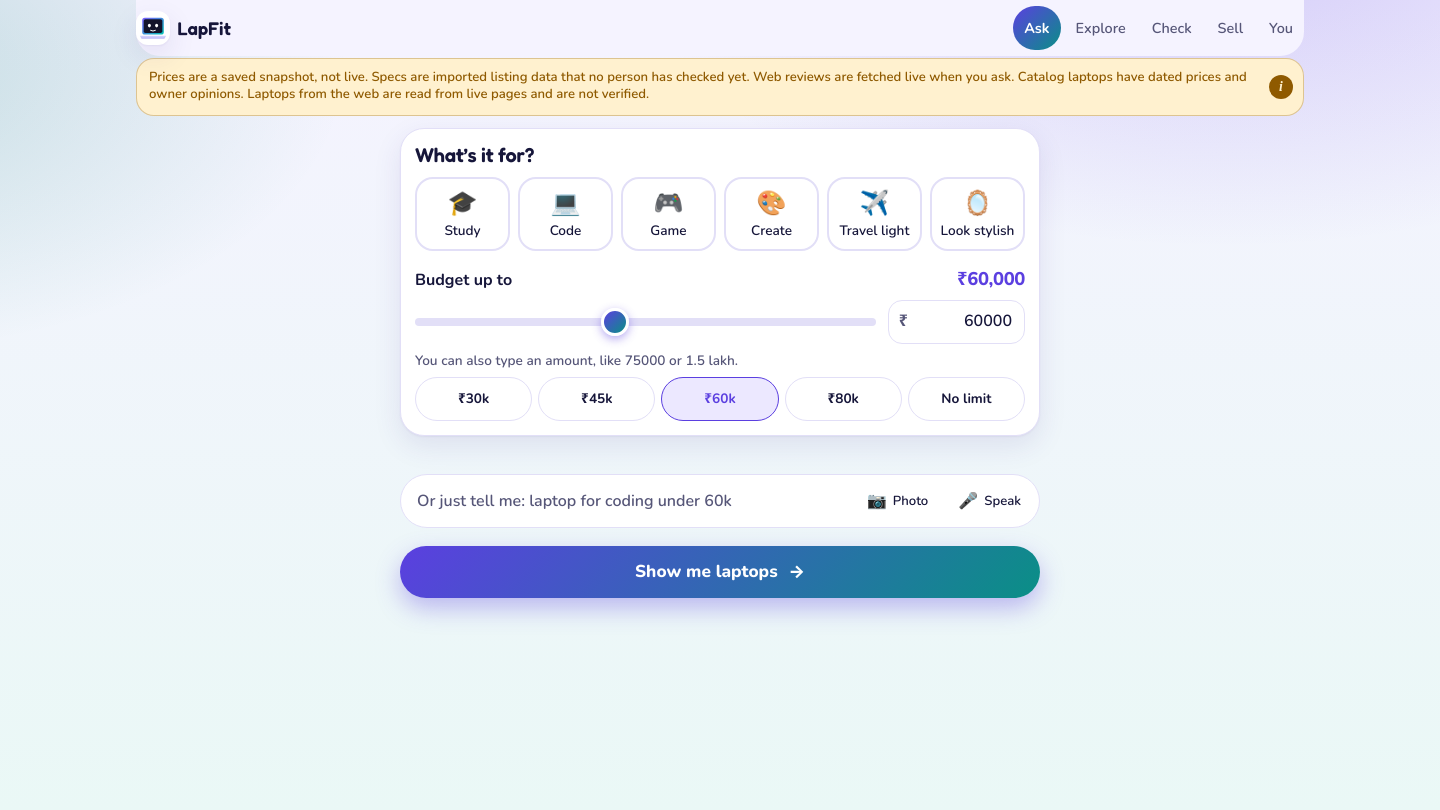
it: whole app › a dead connection shows a plain message, keeps the text, and reports the failure without the text
Step 1. Type "my secret question about a laptop" into the text box named "Your message" → [633, 501], box [417, 479, 849, 523]
Then press Enter
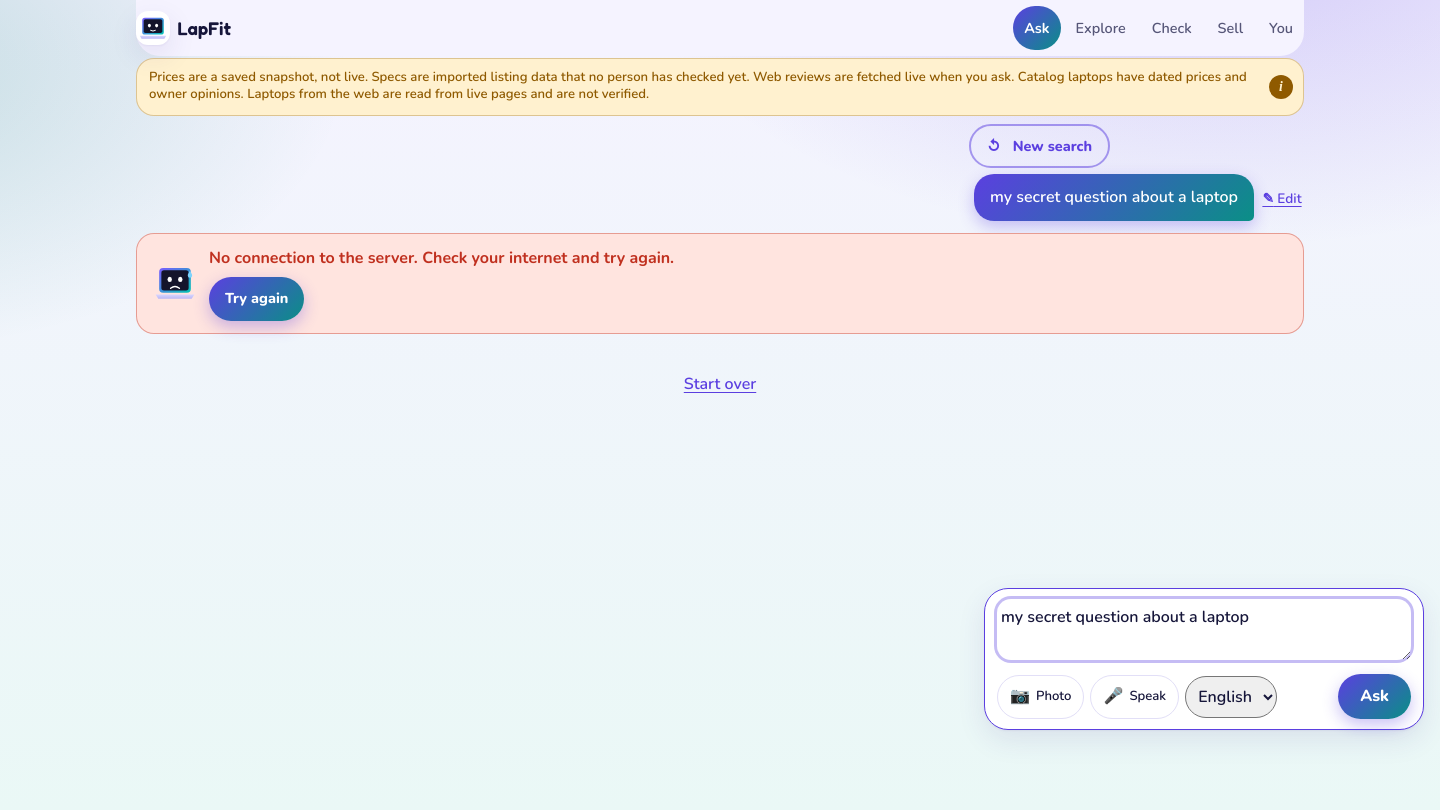
Expected: the message shows "No connection to the server", [209, 247, 674, 269]
